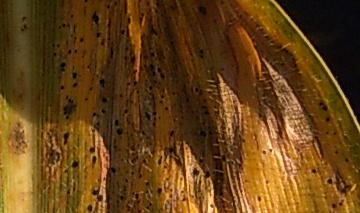tarspot: (62, 99, 79, 120), (168, 151, 183, 169), (90, 10, 102, 29), (91, 187, 105, 203), (106, 16, 113, 42), (91, 120, 103, 133), (196, 46, 206, 61), (196, 4, 208, 16), (148, 61, 157, 77), (137, 11, 145, 28), (317, 101, 329, 112), (148, 22, 158, 35), (62, 132, 70, 147), (58, 61, 68, 73), (128, 54, 137, 66), (191, 166, 201, 176), (115, 126, 124, 137), (108, 45, 115, 59), (98, 77, 106, 89), (143, 110, 151, 122), (70, 160, 80, 169), (99, 95, 109, 104), (19, 23, 28, 33), (148, 50, 157, 60), (156, 186, 163, 198), (325, 177, 334, 186), (88, 145, 97, 154), (203, 170, 212, 179), (158, 71, 167, 80), (220, 153, 228, 163), (71, 22, 78, 33), (108, 166, 117, 174), (20, 14, 29, 22), (99, 106, 107, 115), (198, 129, 207, 137), (157, 154, 163, 166), (71, 70, 78, 80), (167, 145, 174, 155), (202, 109, 212, 116), (199, 104, 209, 111), (126, 15, 133, 25), (124, 203, 131, 213), (260, 149, 268, 157), (197, 156, 205, 164), (86, 203, 93, 212), (90, 155, 97, 164), (95, 30, 102, 39), (55, 42, 62, 51), (139, 129, 148, 136), (137, 171, 144, 180), (113, 118, 119, 128), (213, 135, 219, 145), (309, 167, 317, 174), (71, 81, 78, 89), (58, 84, 66, 91), (78, 35, 85, 43), (193, 86, 200, 94), (155, 65, 162, 73), (168, 129, 175, 137), (133, 192, 140, 200), (143, 180, 151, 187), (143, 187, 150, 195), (150, 121, 158, 128), (118, 193, 125, 201), (99, 39, 106, 47), (62, 167, 70, 174), (170, 90, 178, 97), (123, 176, 131, 183), (330, 201, 336, 210), (256, 194, 262, 203), (112, 1, 121, 7), (184, 95, 190, 104), (122, 183, 128, 192), (337, 200, 344, 207), (91, 111, 98, 118), (147, 84, 154, 91), (163, 105, 170, 112), (118, 28, 125, 35), (68, 12, 75, 19), (82, 95, 89, 102), (267, 147, 274, 154), (151, 109, 158, 116), (153, 1, 160, 8), (123, 107, 129, 115), (50, 41, 56, 49), (264, 177, 270, 185), (56, 23, 62, 31), (60, 22, 66, 30), (65, 188, 71, 196), (306, 113, 314, 119), (122, 53, 128, 61), (123, 45, 129, 53), (344, 155, 349, 164), (324, 116, 330, 123), (73, 47, 79, 54), (72, 35, 79, 41), (51, 51, 58, 57), (132, 80, 138, 87), (117, 92, 124, 98), (87, 86, 94, 92), (105, 3, 112, 9), (159, 93, 165, 100), (152, 78, 158, 85), (135, 198, 141, 205), (323, 129, 329, 136), (67, 48, 72, 56), (151, 116, 157, 122), (125, 81, 131, 87), (201, 97, 207, 103), (144, 204, 150, 210), (331, 130, 337, 136), (333, 149, 339, 155), (158, 99, 164, 104), (147, 201, 153, 206), (64, 93, 68, 100), (136, 209, 141, 213), (83, 1, 88, 4), (86, 64, 89, 69)
